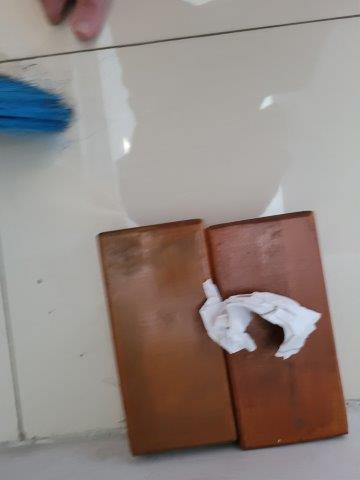kertas: (201, 278, 324, 359)
